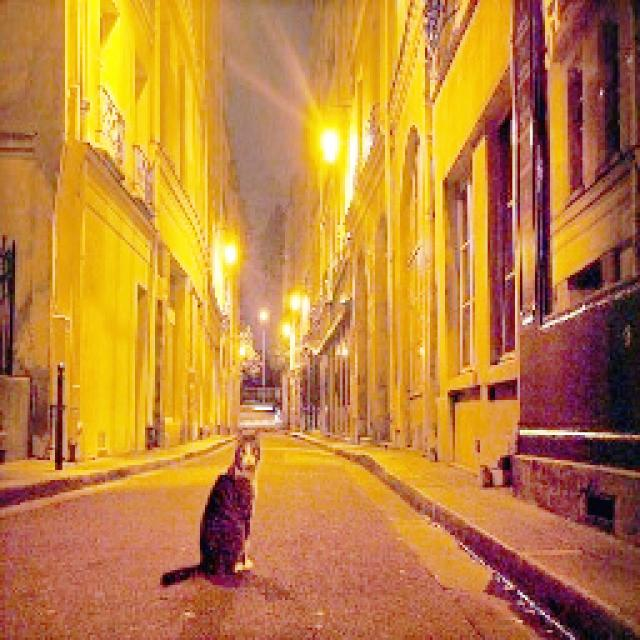cat: (151, 424, 282, 597)
